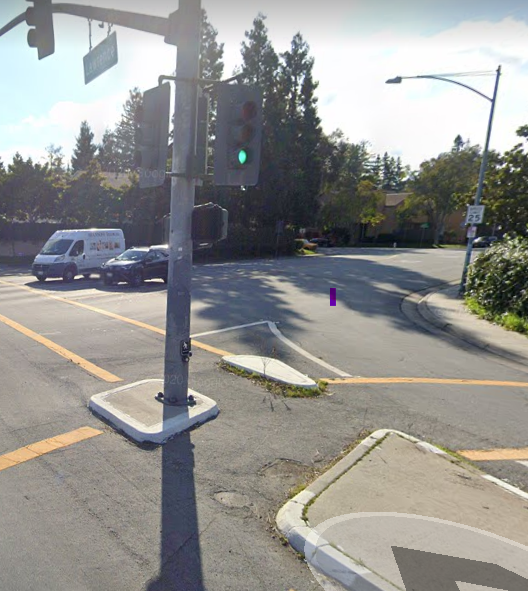green_light: (223, 93, 259, 184)
